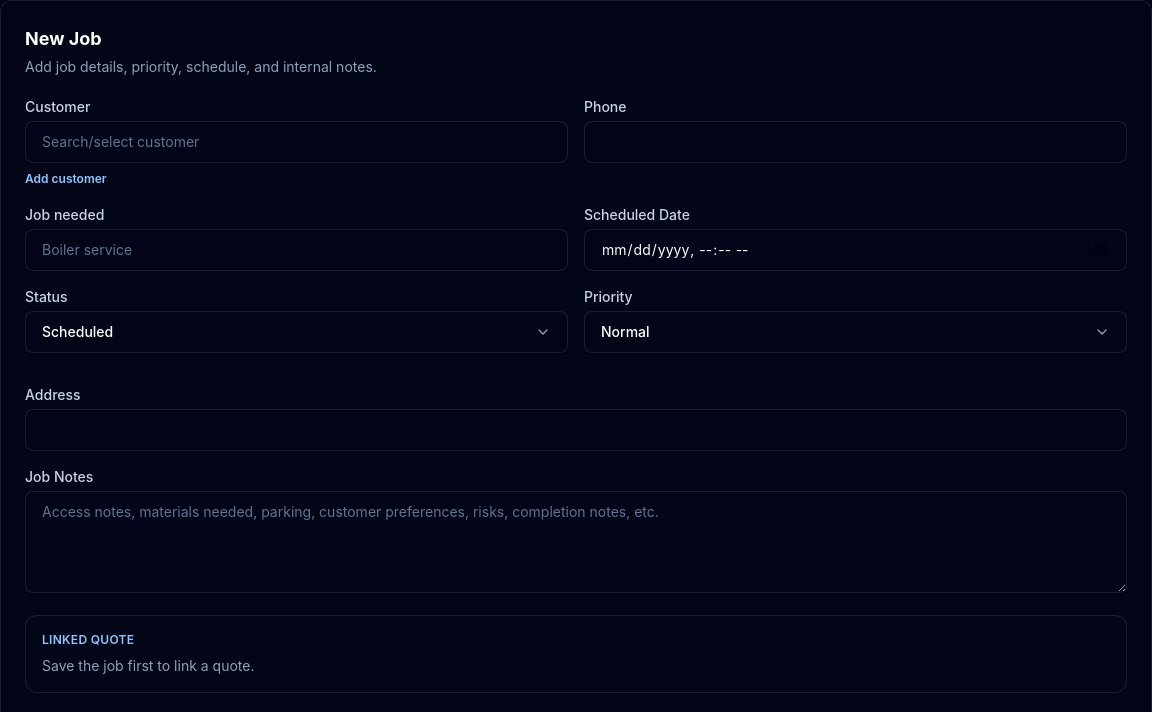
Test: overnight regression smoke coverage › job form keeps Job needed wording and validates the required field
Type "Sarah Johnson" into the field labelled "Customer".
click(296, 142); type("Sarah Johnson")  # box left=25, top=121, right=568, bottom=163
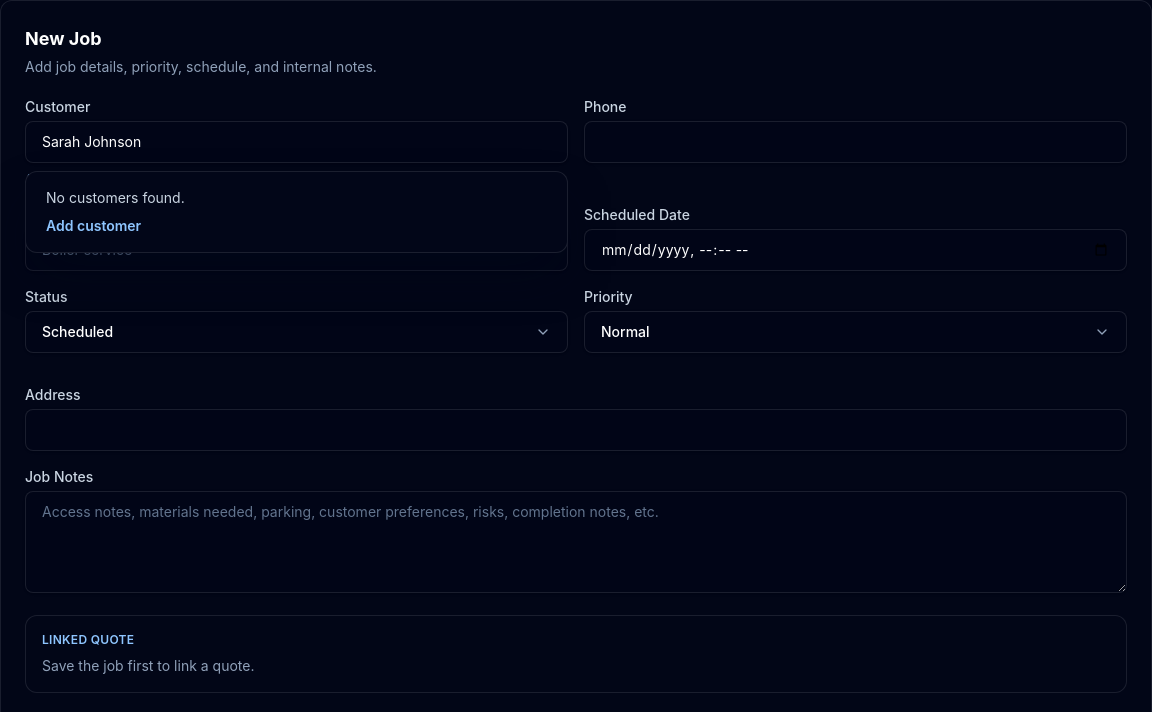
Type "07981 125031" into the field labelled "Phone".
click(856, 142); type("07981 125031")  # box left=584, top=121, right=1127, bottom=163
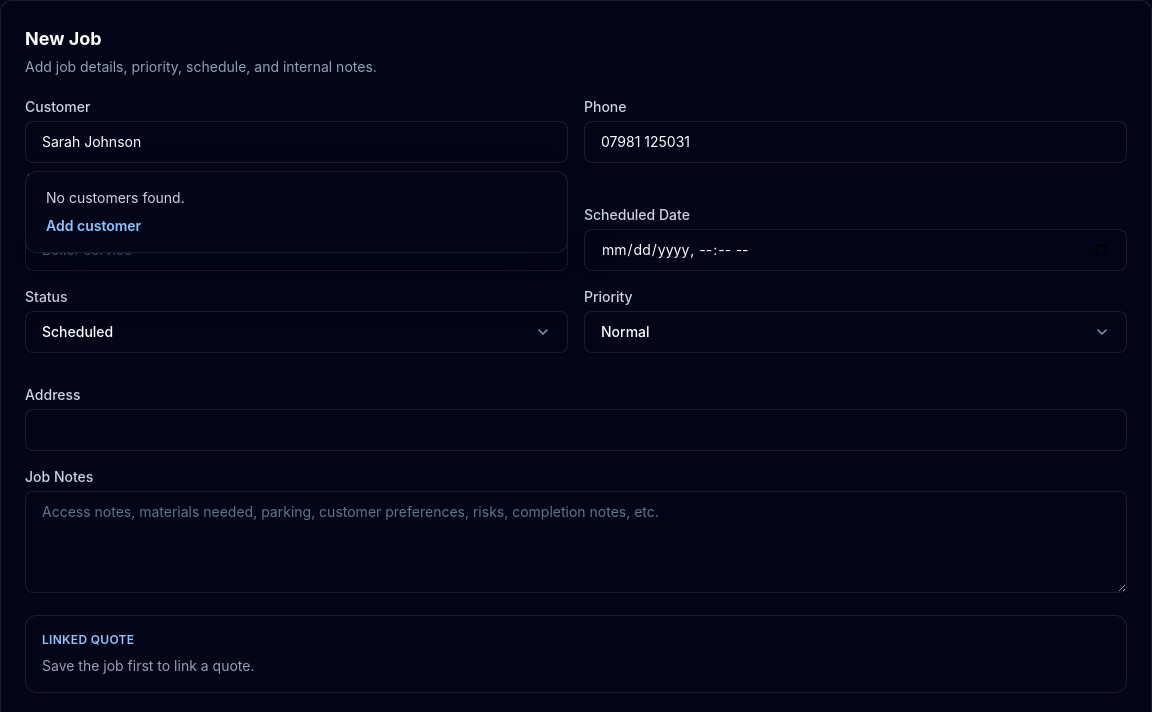
Type "1 Trade Street" into the field labelled "Address".
click(576, 430); type("1 Trade Street")  # box left=25, top=409, right=1127, bottom=451
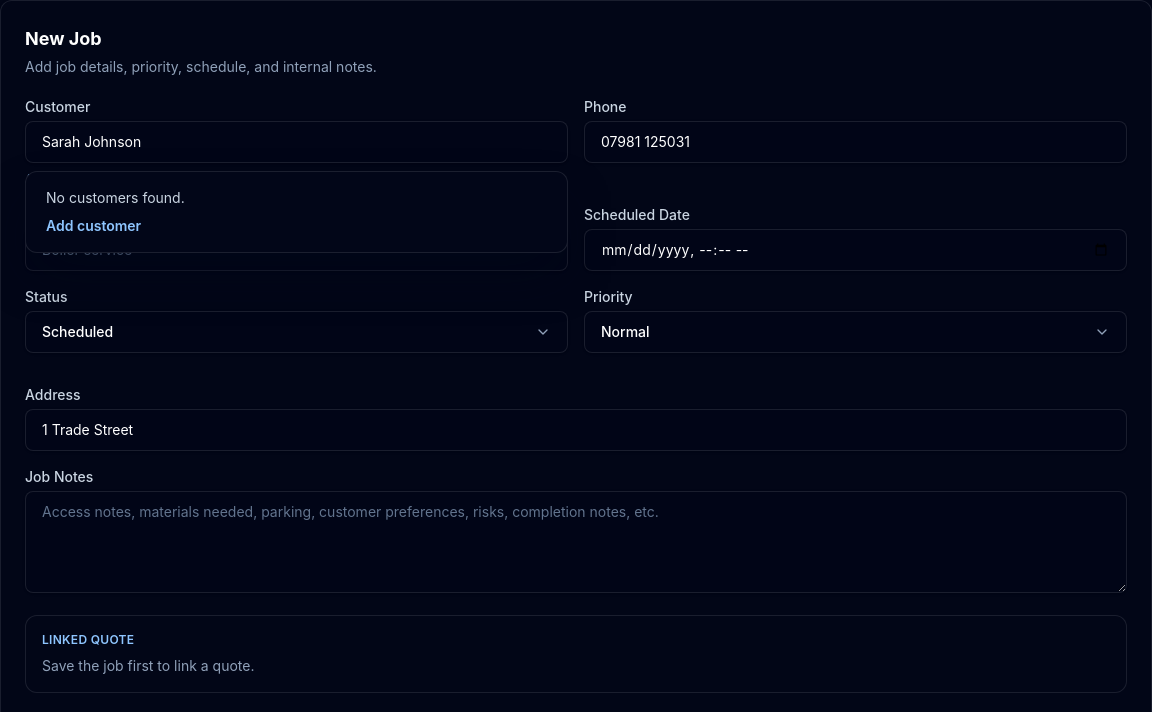
Type "2026-07-02T09:00" into the field labelled "Scheduled Date".
click(856, 250); type("2026-07-02T09:00")  # box left=584, top=229, right=1127, bottom=271
(page scrolled)
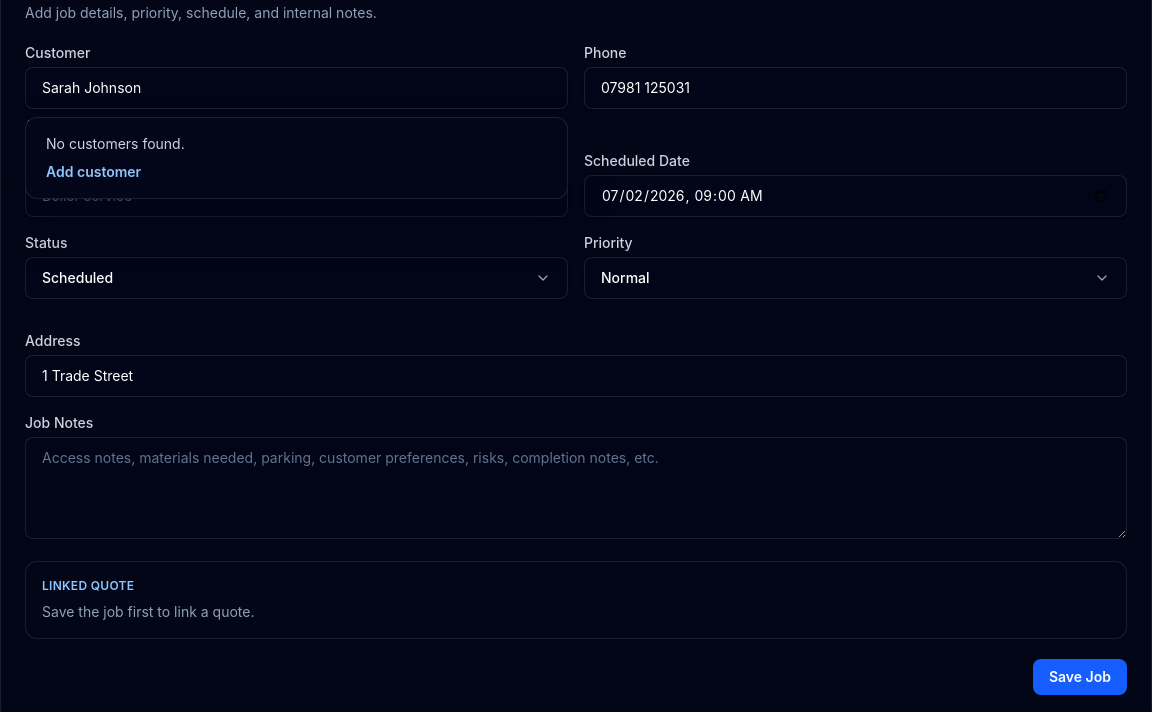
Click the button "Save Job".
click(1080, 677)  # box left=1033, top=659, right=1127, bottom=695
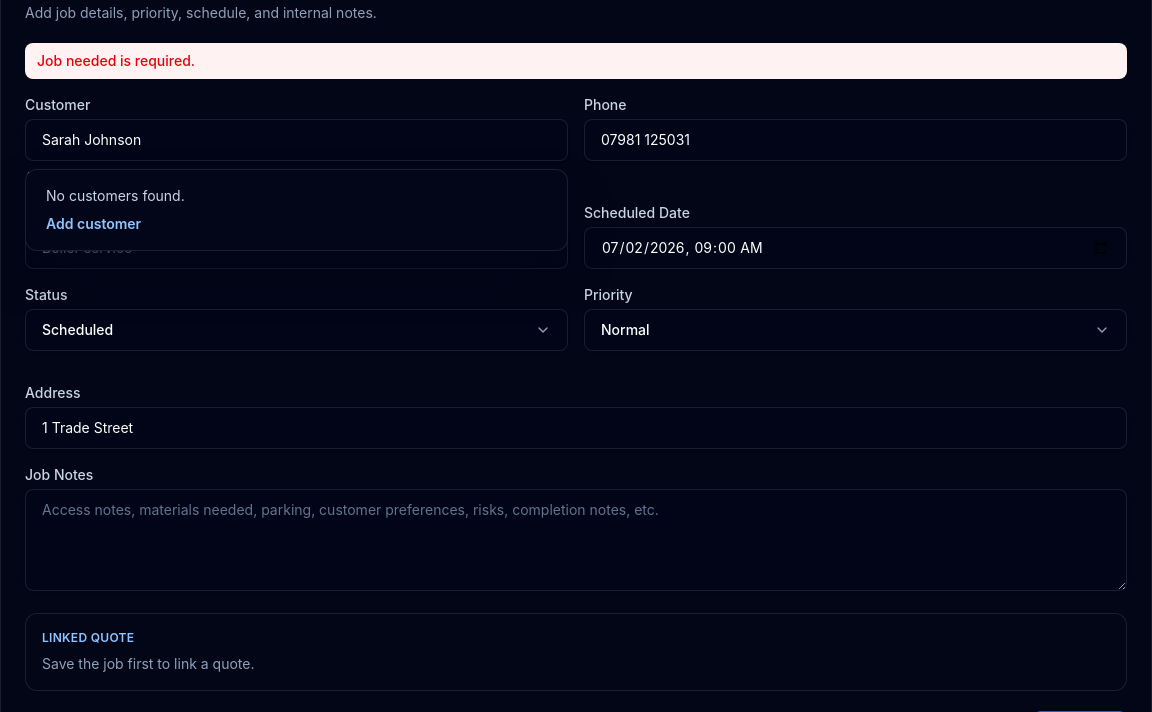
Check: the text "Job needed is required." is shown, box left=25, top=43, right=1127, bottom=79
